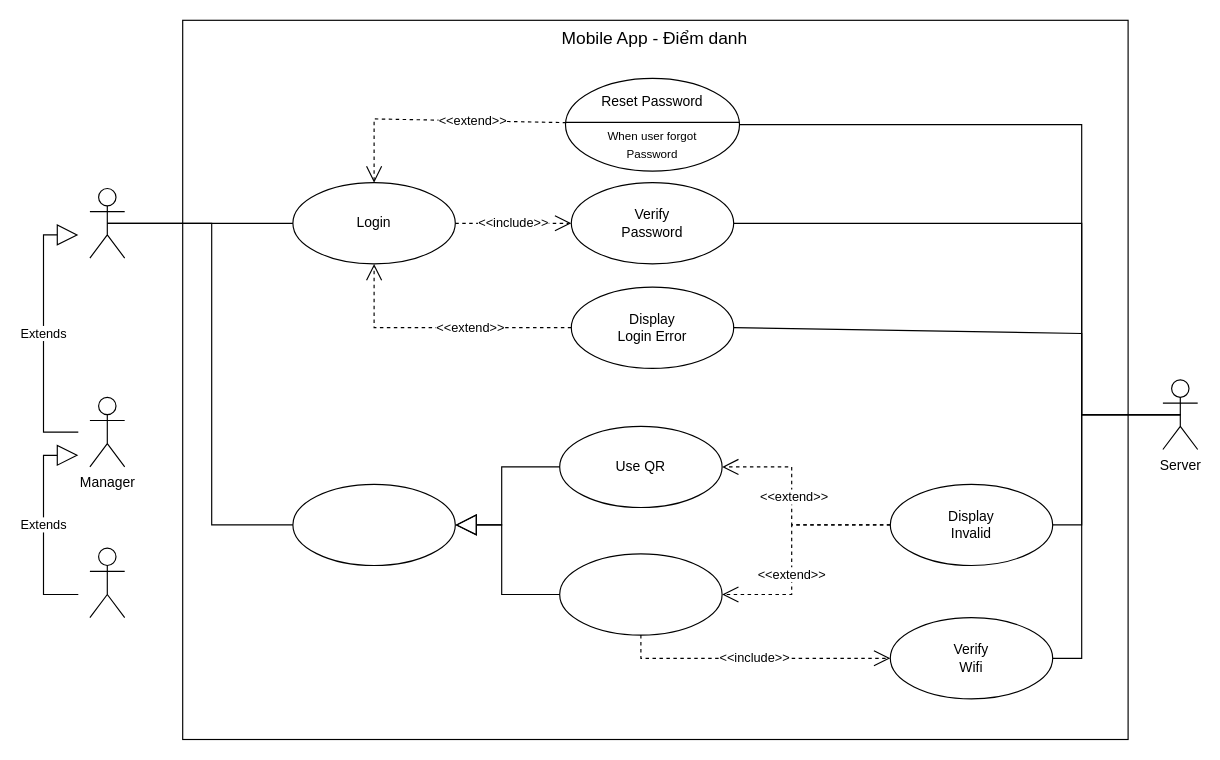
Image size: 1220x760. Some labels were removed from this diagram. Here are the shapes that lost their labels. From the top down, the box of each, then its label:
(89, 187, 125, 258): Nhân viên
(292, 483, 455, 566): Check-in
(89, 547, 125, 618): Director
(559, 553, 722, 635): Use Wifi
